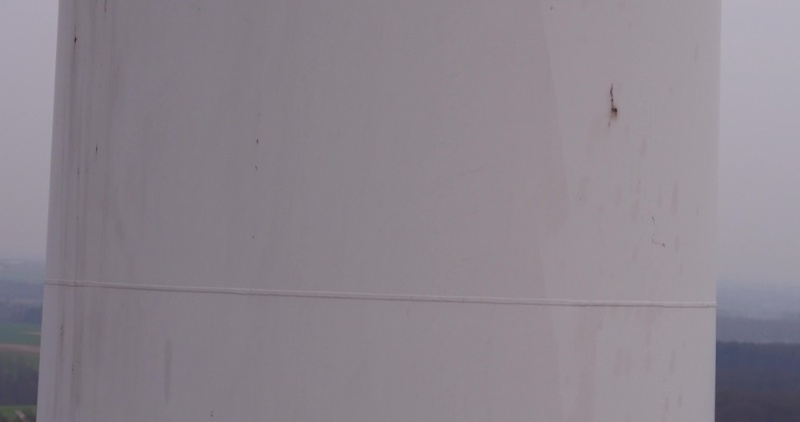weldseam: (38, 272, 723, 312)
